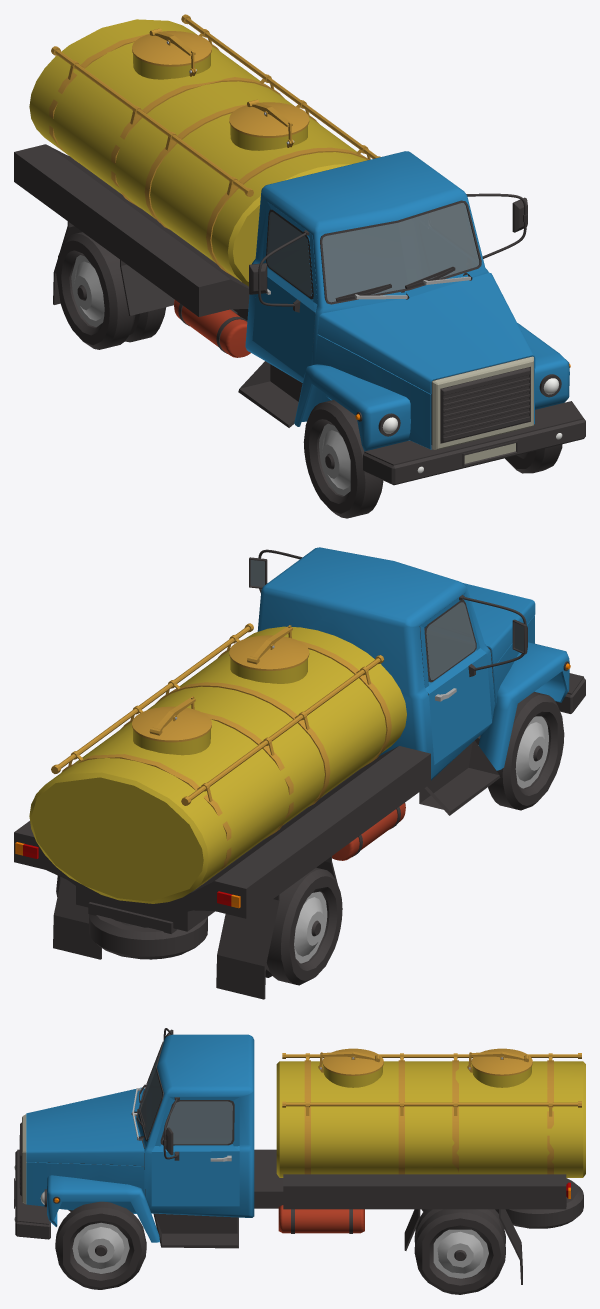
Rendered from tanker-1.glb.
3 views of the same model, one above another, from view 1: azimuth 30°, elevation 25°; view 2: azimuth 150°, elevation 25°; view 3: azimuth 270°, elevation 25° (orthographic). The views are drawn at different scales.
Visible parts, largest first — view 1: body, wheel_rr, wheel_fr, wheel_fl; view 2: body, wheel_rr, wheel_fr; view 3: body, wheel_rl, wheel_fl.
Part boxes in pixels (x1=…): body: x1=14, y1=14, x2=585, y2=485; wheel_rr: x1=56, y1=232, x2=166, y2=349; wheel_fr: x1=303, y1=400, x2=383, y2=518; wheel_fl: x1=505, y1=444, x2=562, y2=473; body: x1=14, y1=547, x2=585, y2=999; wheel_rr: x1=265, y1=867, x2=342, y2=985; wheel_fr: x1=488, y1=691, x2=564, y2=810; body: x1=14, y1=1028, x2=585, y2=1284; wheel_rl: x1=414, y1=1209, x2=505, y2=1294; wheel_fl: x1=55, y1=1201, x2=146, y2=1289.
Bounding box in the file's own units: 2.71 × 2.45 × 6.33.
